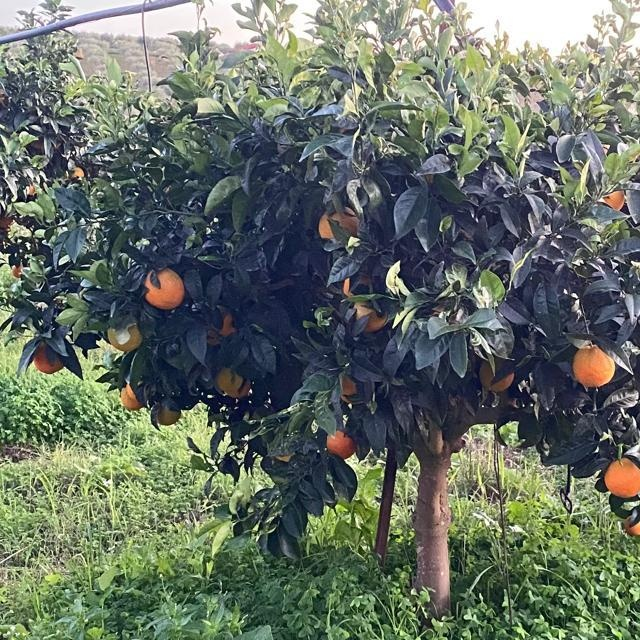orange: (571, 334, 615, 388), (316, 201, 364, 241), (346, 294, 396, 330), (603, 454, 640, 500), (145, 265, 185, 307), (106, 316, 142, 350), (326, 426, 356, 460), (216, 365, 248, 395), (478, 362, 512, 390), (33, 343, 63, 373), (268, 441, 300, 465), (214, 309, 236, 339), (152, 403, 180, 425), (338, 369, 358, 399), (343, 275, 371, 295), (601, 187, 625, 209), (114, 393, 134, 413), (625, 515, 640, 537), (122, 383, 138, 401), (69, 165, 87, 179), (0, 210, 12, 230), (23, 183, 39, 197), (12, 263, 26, 277)
